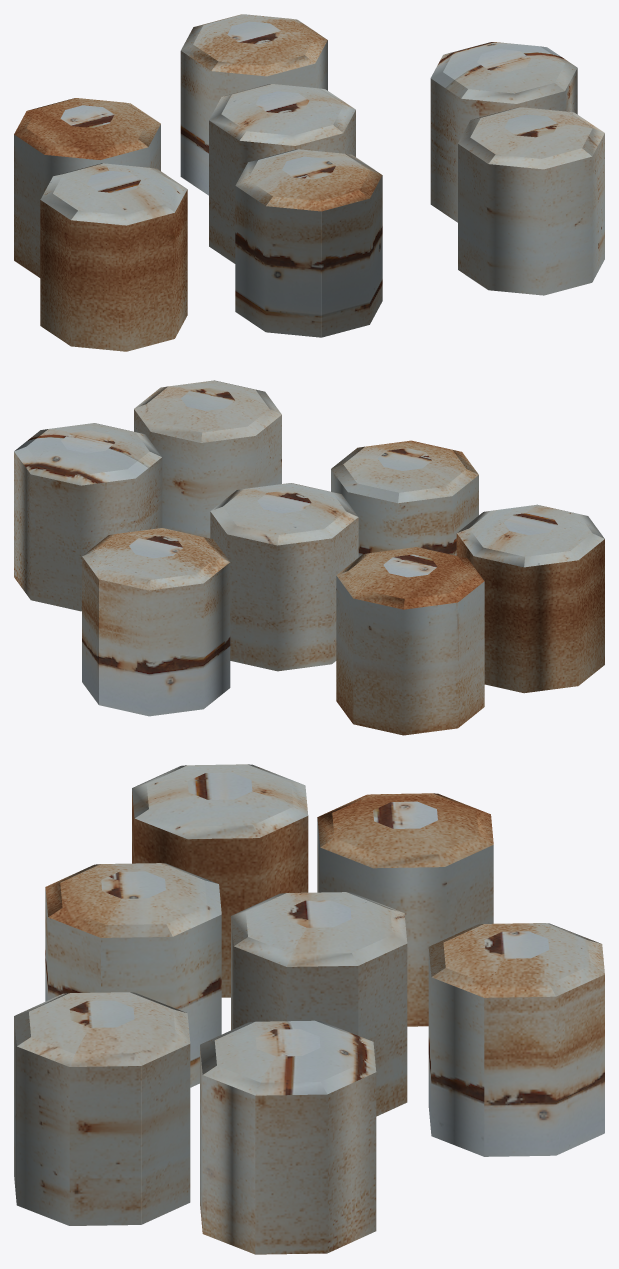
File: youguan_01_07.fbx
3 renders of one model, top to bottom at view 1: azimuth 30°, elevation 25°; view 2: azimuth 150°, elevation 25°; view 3: azimuth 270°, elevation 25°, orthographic. The views are drawn at different scales.
Visible parts, largest first — view 1: Youguan_01_07; view 2: Youguan_01_07; view 3: Youguan_01_07.
Part boxes in pixels (bbox=[...]): Youguan_01_07: bbox=[14, 14, 604, 351]; Youguan_01_07: bbox=[14, 380, 604, 735]; Youguan_01_07: bbox=[14, 764, 604, 1254].
Size of the model in its own units: 4159 by 1023 by 3138.
